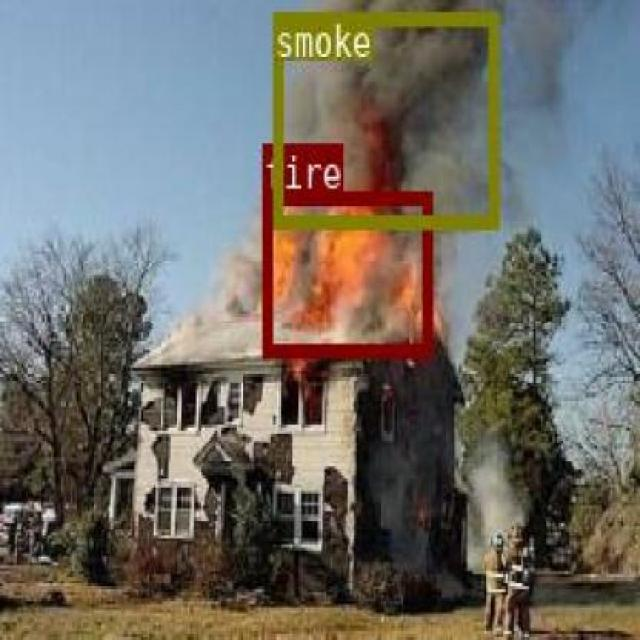Smoke: (272, 10, 497, 227)
